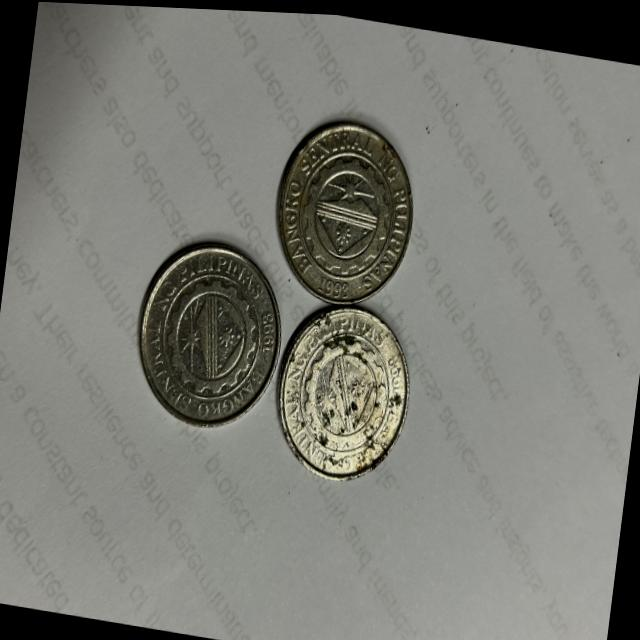1_Old_Back: (282, 132, 408, 278), (152, 253, 266, 412)
